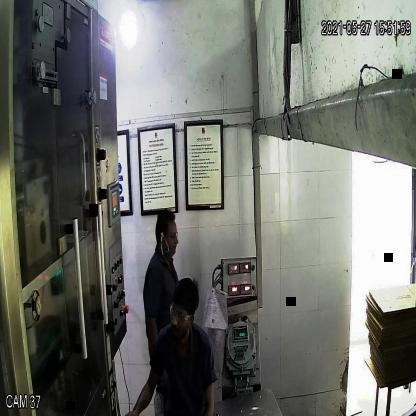goggles: (166, 303, 196, 326)
